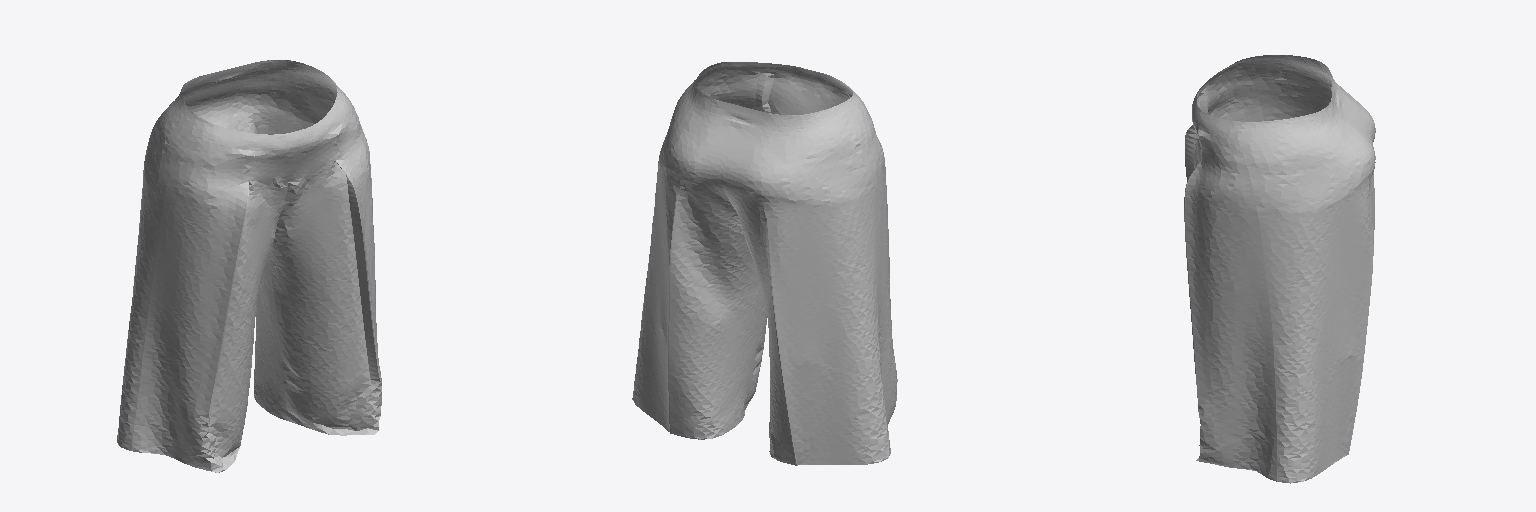
File: XLarge_Short.obj
3 views of the same model, side by side, from view 1: azimuth 30°, elevation 25°; view 2: azimuth 150°, elevation 25°; view 3: azimuth 270°, elevation 25° (orthographic).
Parts seen in each view (by area): view 1: changku.005; view 2: changku.005; view 3: changku.005.
Boxes of the visible parts, <box> form: changku.005: <box>117,60,381,472</box>; changku.005: <box>632,62,897,465</box>; changku.005: <box>1184,55,1375,483</box>.
Bounding box in the file's own units: 0.6852 × 0.8653 × 0.4435.